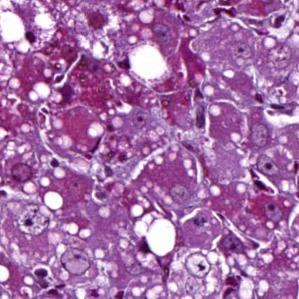ballooning: (164, 245, 234, 298), (4, 5, 60, 57)
